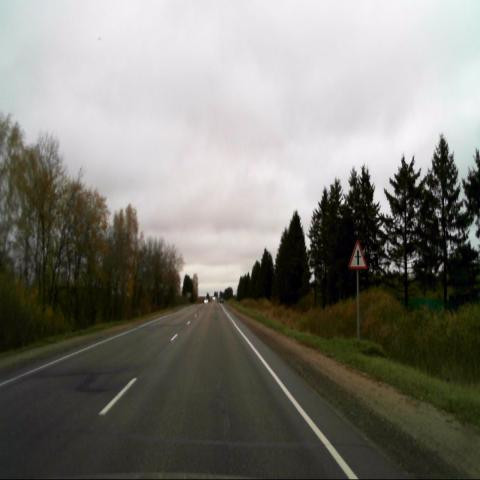2_3: (348, 239, 368, 270)
